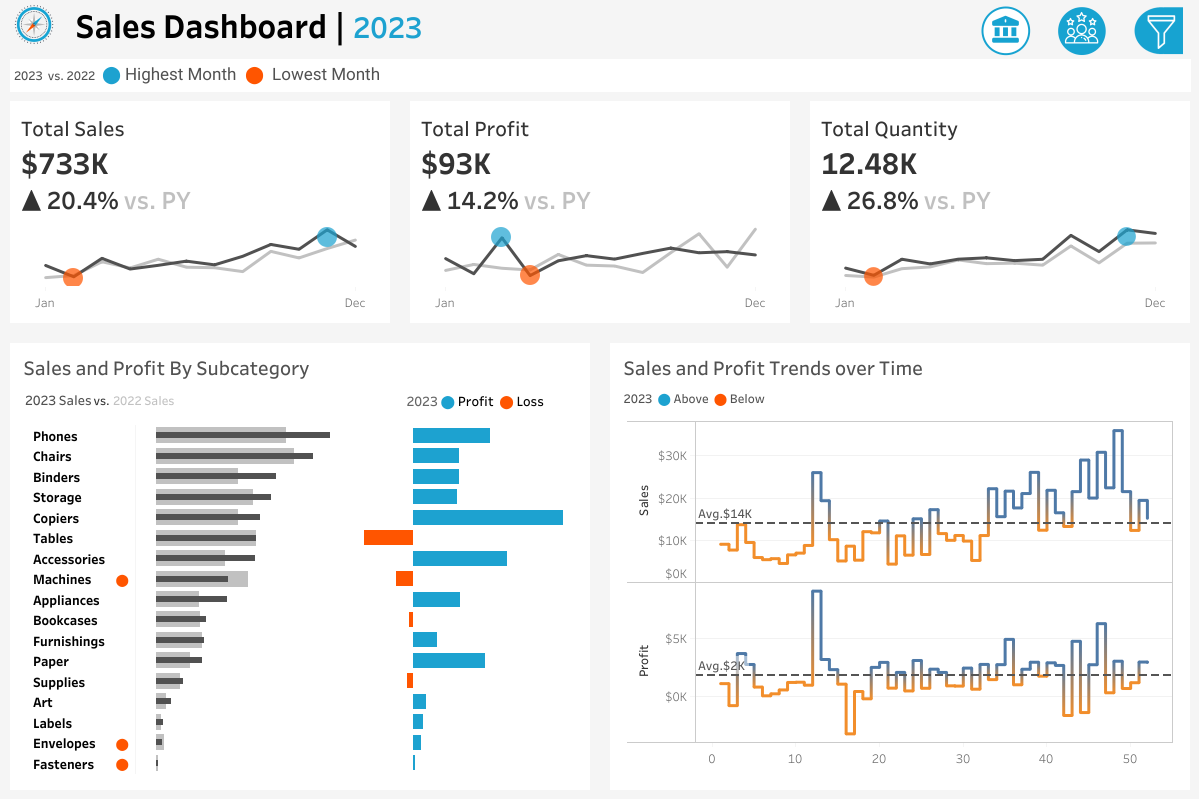

Layout of this report page (visuals, bound fields, positions):
{"tool":"tableau","page":{"name":"Sales Dashboard","canvas":[1200,800],"ordinal":1},"visuals":[{"type":"image","param":"Image/Icon - Logo.png","box":[0,0,69,49]},{"type":"text","box":[69,0,734,49]},{"type":"dashboard-object","box":[968,2,76,58]},{"type":"dashboard-object","box":[1044,2,76,58]},{"type":"dashboard-object","box":[1120,2,76,58]},{"type":"blank","box":[976,10,213,43]},{"type":"worksheet","title":"Legend KPI","mark":"Automatic","box":[0,49,1200,52]},{"type":"text","box":[976,53,213,40]},{"type":"parameter","param":"[Parameters].[Parameter 1]","box":[976,93,213,52]},{"type":"worksheet","title":"KPI Sales","mark":"Automatic","rows":["Calculation_189432727653765130"],"cols":["Order Date"],"box":[0,101,400,232]},{"type":"worksheet","title":"KPI Profit","mark":"Automatic","rows":["Calculation_189432727654924299"],"cols":["Order Date"],"box":[400,101,400,232]},{"type":"worksheet","title":"KPI Quantity","mark":"Automatic","rows":["Calculation_189432727655145484"],"cols":["Order Date"],"box":[800,101,400,232]},{"type":"text","box":[976,145,213,33]},{"type":"filter","title":"KPI Sales","param":"[federated.0ug858x0bnghr41ccmnlg0o0680l].[none:Category:nk]","box":[976,178,213,61]},{"type":"filter","title":"KPI Sales","param":"[federated.0ug858x0bnghr41ccmnlg0o0680l].[none:Sub-Category:nk]","box":[976,239,213,61]},{"type":"blank","box":[976,300,213,57]},{"type":"text","box":[17,350,566,40]},{"type":"text","box":[617,350,566,35]},{"type":"text","box":[976,357,213,33]},{"type":"text","box":[617,385,566,29]},{"type":"worksheet","title":"Legend Subcategory","mark":"Automatic","box":[17,390,383,25]},{"type":"text","box":[400,390,183,25]},{"type":"filter","title":"KPI Sales","param":"[federated.0ug858x0bnghr41ccmnlg0o0680l].[none:Region:nk]","box":[976,390,213,61]},{"type":"worksheet","title":"Weekly Trends","mark":"Automatic","rows":["Calculation_189432727643746304","Calculation_189432727644102657"],"cols":["Order Date"],"box":[617,414,566,369]},{"type":"worksheet","title":"Subcategory Comparison","mark":"Bar","rows":["Sub-Category","Calculation_189432727682367509"],"cols":["Calculation_189432727646466051","Calculation_189432727643746304","Calculation_189432727644102657"],"box":[17,415,566,368]},{"type":"filter","title":"KPI Sales","param":"[federated.0ug858x0bnghr41ccmnlg0o0680l].[none:State:nk]","box":[976,451,213,61]},{"type":"filter","title":"KPI Sales","param":"[federated.0ug858x0bnghr41ccmnlg0o0680l].[none:City:nk]","box":[976,512,213,61]}]}

Visuals, with their boxes in screenshot pixels (x1, y1, x2, y2), scaled from the page's 1200x800 canvas onto the 1199x799 screenshot:
image: (0, 0, 69, 49)
text: (69, 0, 802, 49)
dashboard-object: (967, 2, 1043, 60)
dashboard-object: (1043, 2, 1119, 60)
dashboard-object: (1119, 2, 1195, 60)
blank: (975, 10, 1188, 53)
"Legend KPI" worksheet: (0, 49, 1198, 101)
text: (975, 53, 1188, 93)
parameter: (975, 93, 1188, 145)
"KPI Sales" worksheet: (0, 101, 400, 333)
"KPI Profit" worksheet: (400, 101, 799, 333)
"KPI Quantity" worksheet: (799, 101, 1198, 333)
text: (975, 145, 1188, 178)
"KPI Sales" filter: (975, 178, 1188, 239)
"KPI Sales" filter: (975, 239, 1188, 300)
blank: (975, 300, 1188, 357)
text: (17, 350, 583, 390)
text: (616, 350, 1182, 385)
text: (975, 357, 1188, 390)
text: (616, 385, 1182, 413)
"Legend Subcategory" worksheet: (17, 390, 400, 414)
text: (400, 390, 583, 414)
"KPI Sales" filter: (975, 390, 1188, 450)
"Weekly Trends" worksheet: (616, 413, 1182, 782)
"Subcategory Comparison" worksheet (Bar marks): (17, 414, 583, 782)
"KPI Sales" filter: (975, 450, 1188, 511)
"KPI Sales" filter: (975, 511, 1188, 572)
